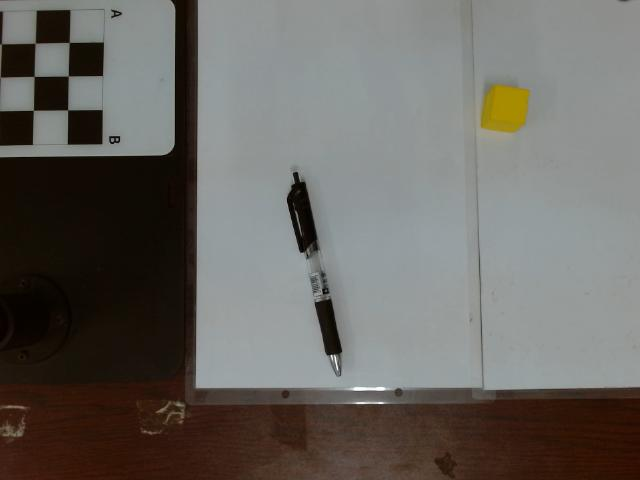PEN: (281, 171, 347, 379)
